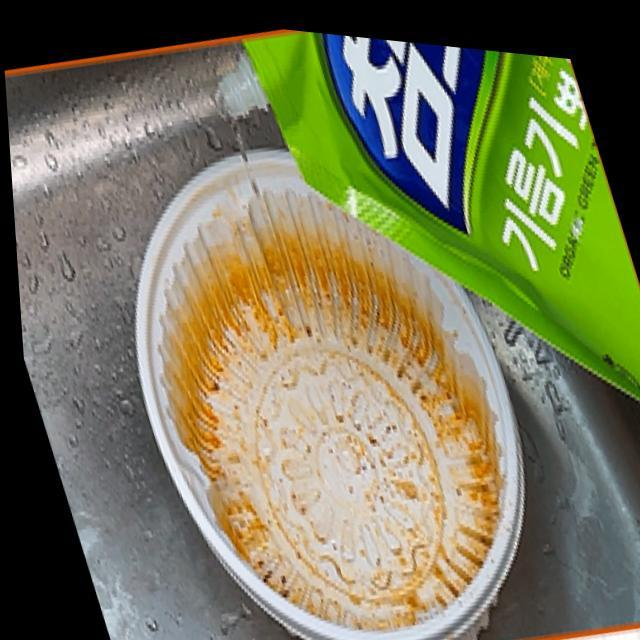container: (117, 109, 555, 640)
